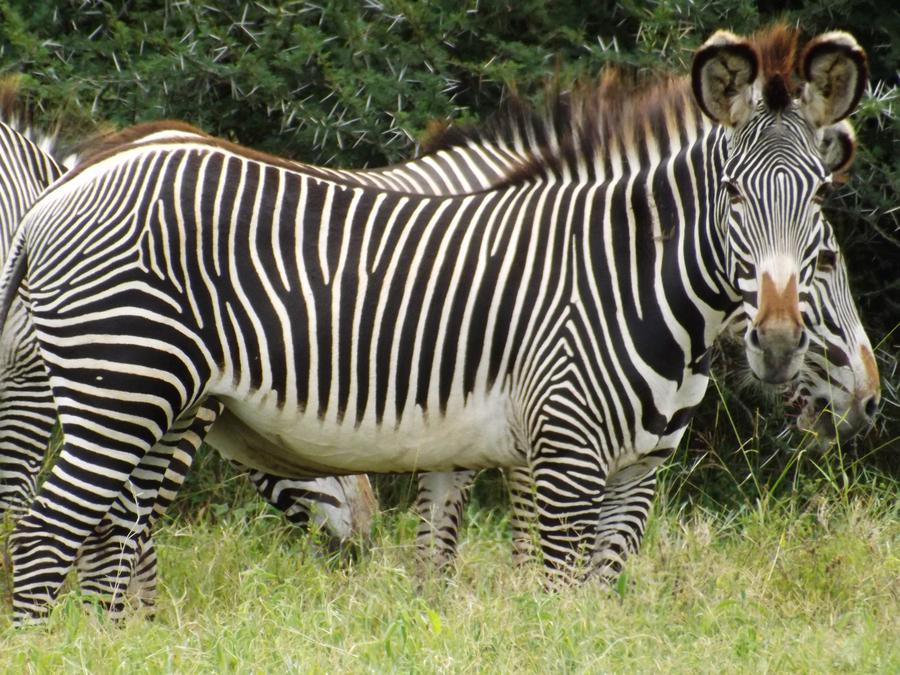zebra_grevys: (42, 185, 627, 440)
